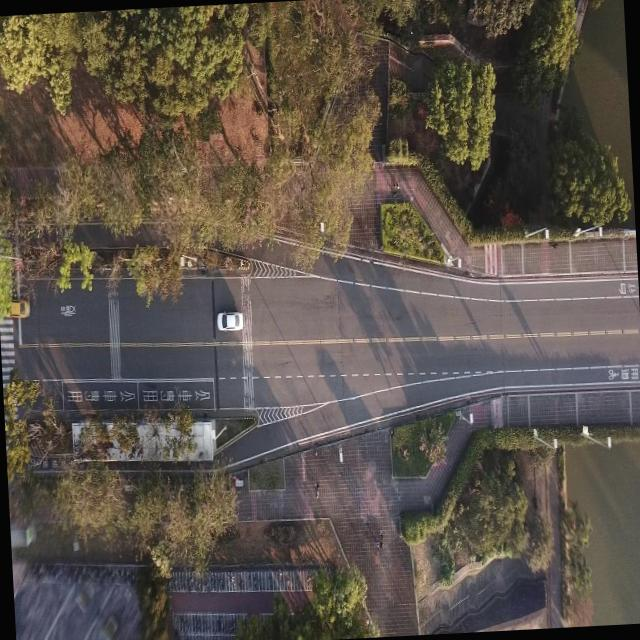car: (215, 308, 244, 332)
